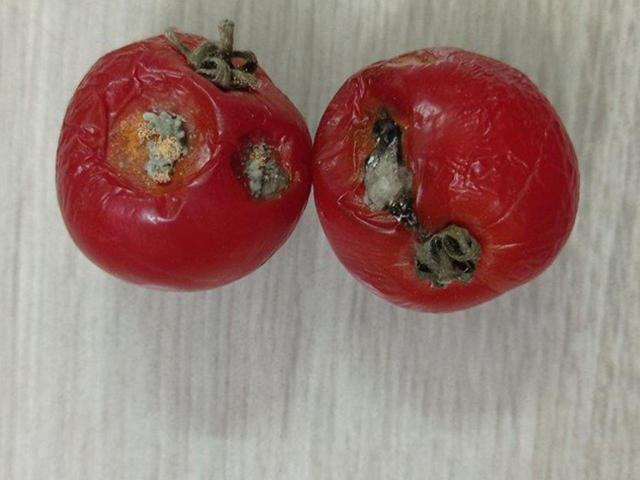defect: (310, 39, 581, 323), (51, 21, 315, 296)
